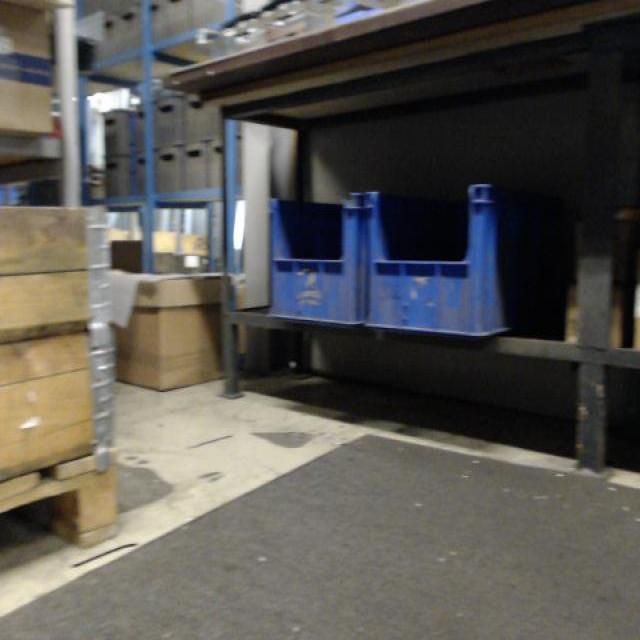pallet: (0, 442, 124, 574)
small_load_carrier: (358, 176, 557, 343), (266, 188, 357, 335)
